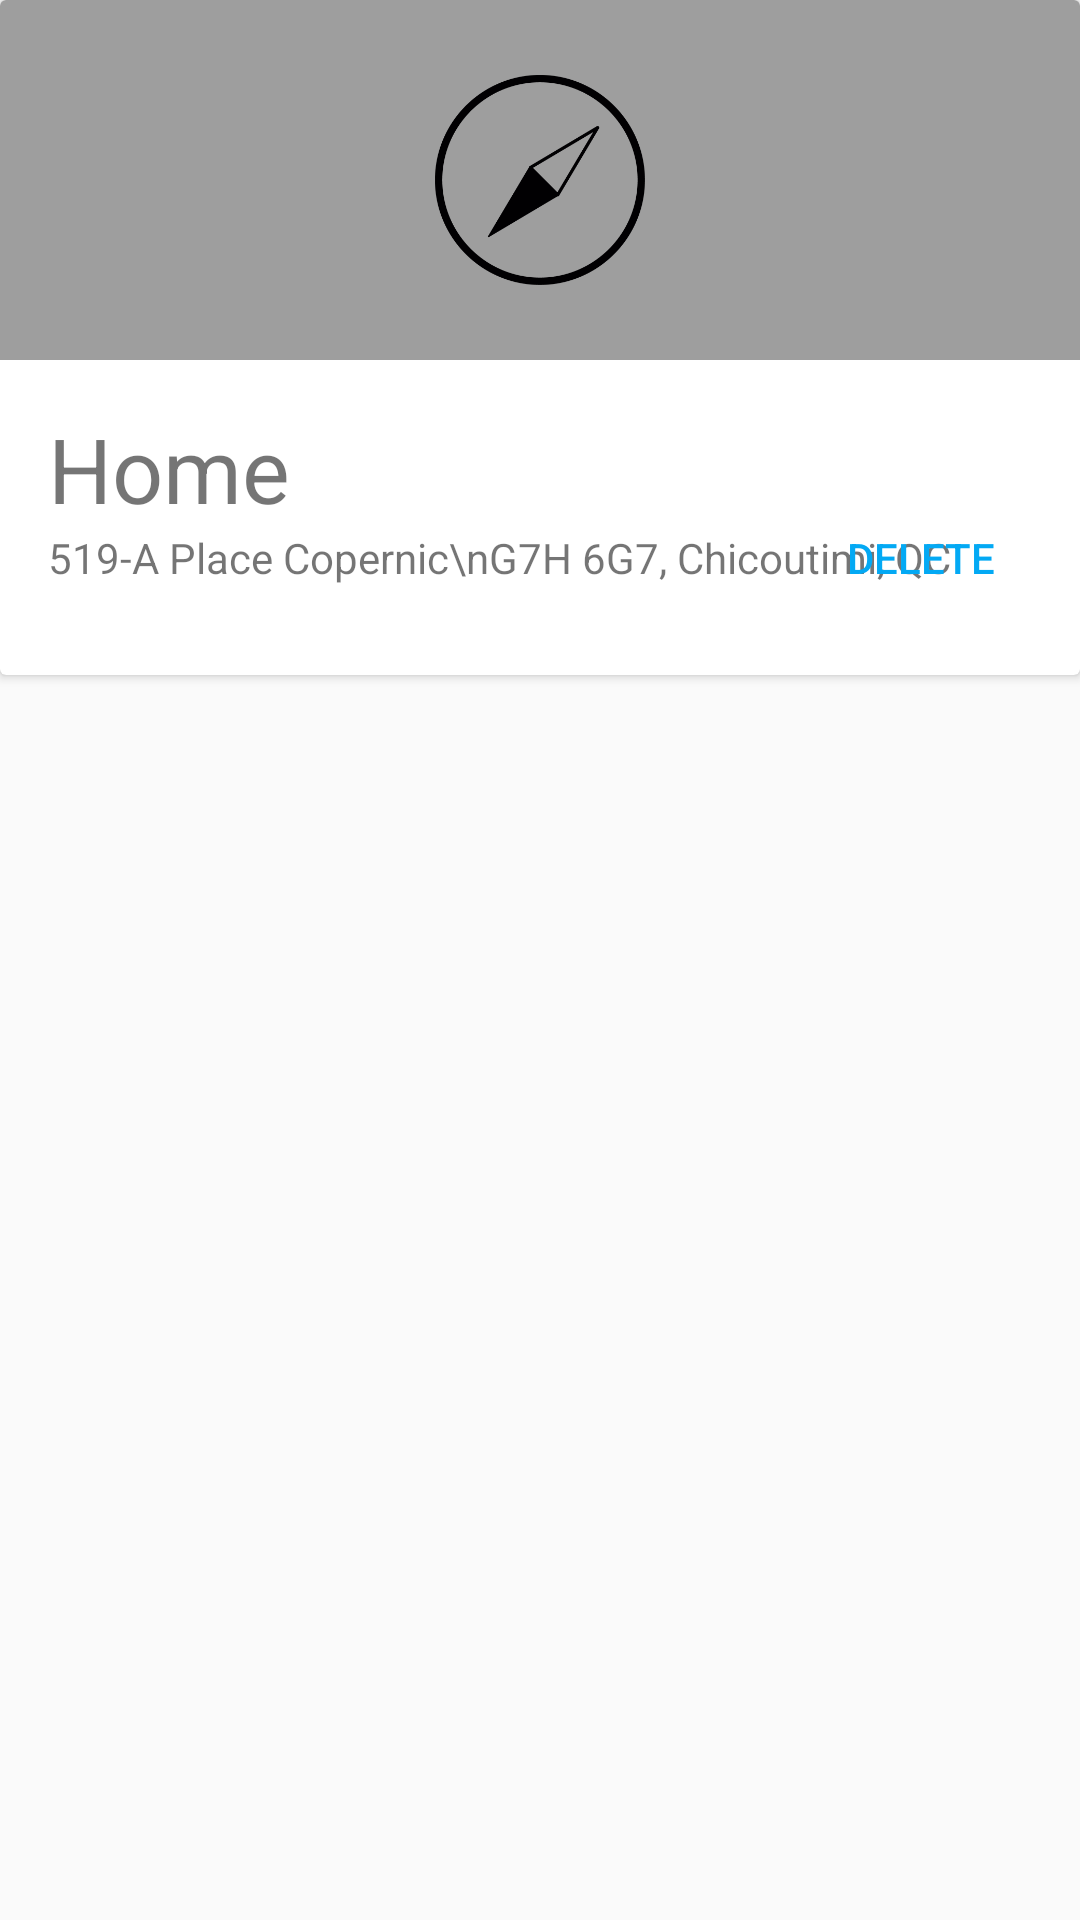

Where icons sit on this 1080×1920 app screen, as [x1=x1, y1=y1, x2=x2, y2=y2]:
compass: [x1=435, y1=75, x2=645, y2=285]
